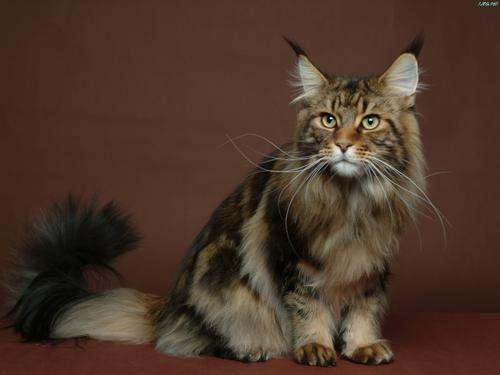cat: (9, 26, 436, 375)
